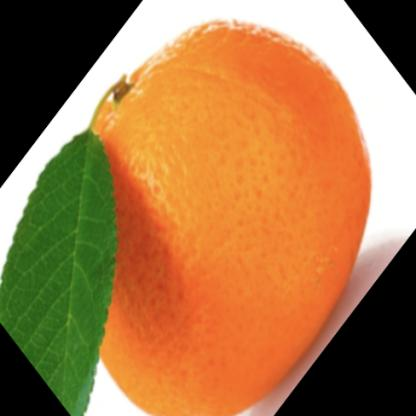fresh: (72, 20, 369, 416)
